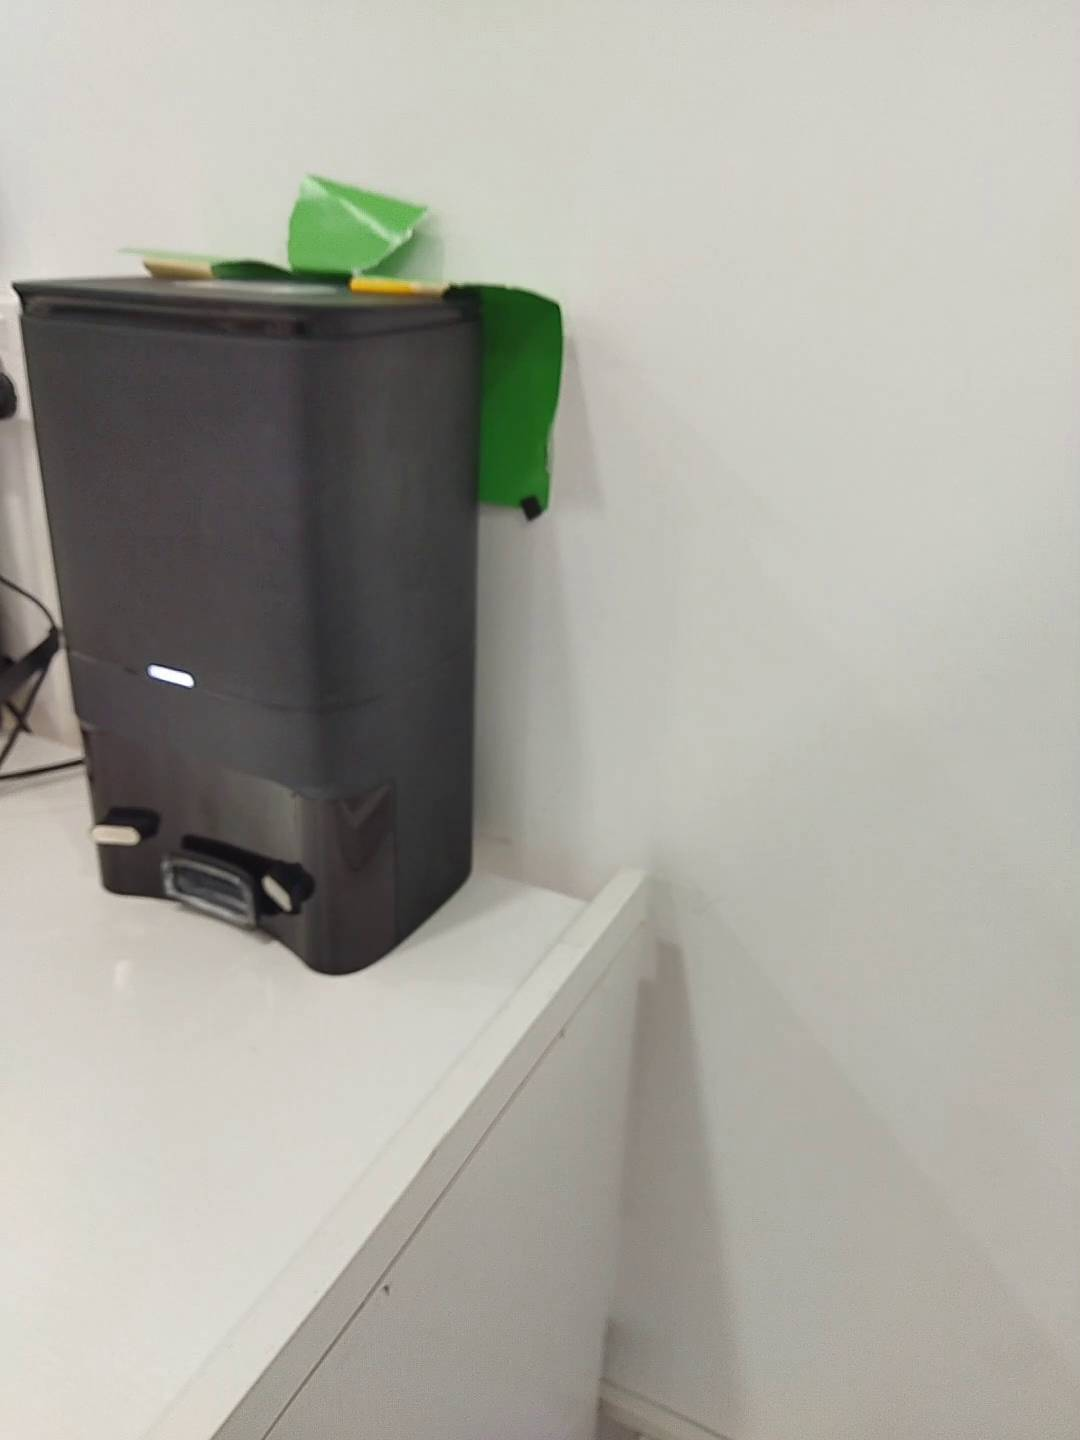dust collecting barrel: (10, 274, 483, 976)
